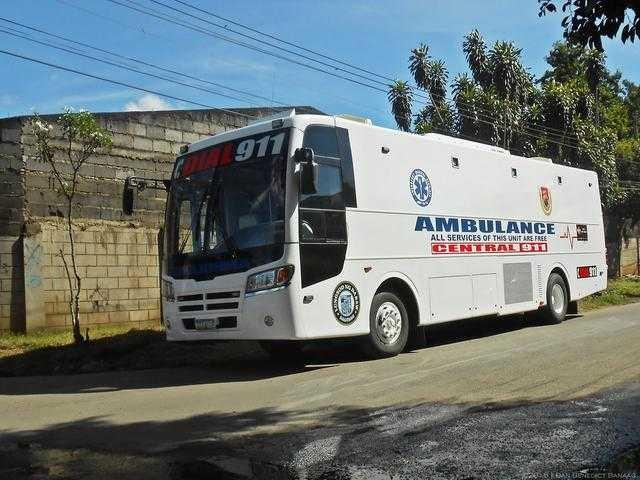car: (154, 108, 608, 357)
